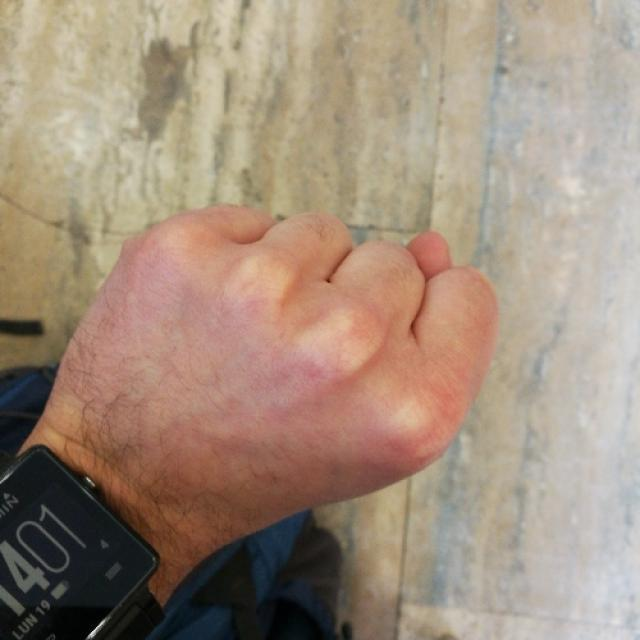fist: (44, 195, 504, 560)
